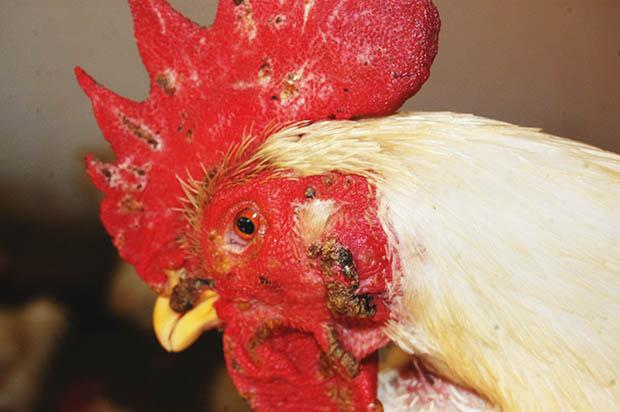AbNormal: (73, 2, 441, 301)
